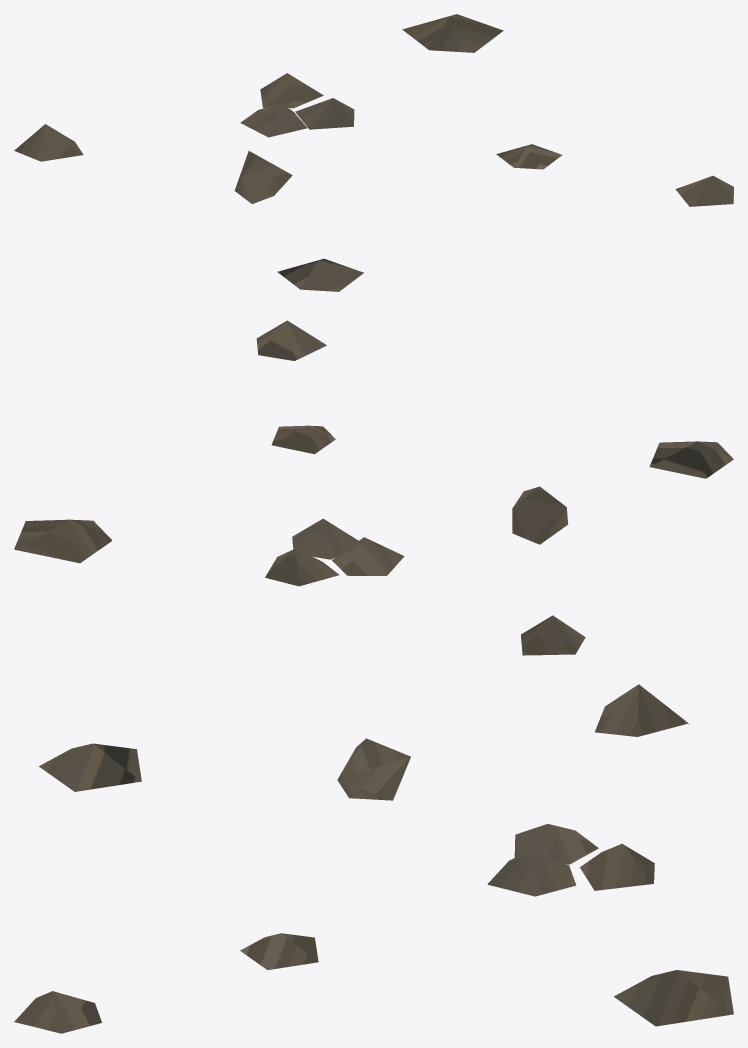
File: rock_gfield1_hdtex.glb
3 renders of one model, top to bottom at view 1: azimuth 30°, elevation 25°; view 2: azimuth 150°, elevation 25°; view 3: azimuth 270°, elevation 25°, orthographic. The views are drawn at different scales.
Parts seen in each view (by area): view 1: Rock_GField1; view 2: Rock_GField1; view 3: Rock_GField1.
Boxes of the visible parts, x1,y1,x2,y2 form: Rock_GField1: (14, 14, 733, 291); Rock_GField1: (14, 320, 733, 655); Rock_GField1: (14, 684, 733, 1033).
Size of the model in its own units: 22.29 by 1.74 by 20.31.
Materials: 1 (1 with a texture image).
